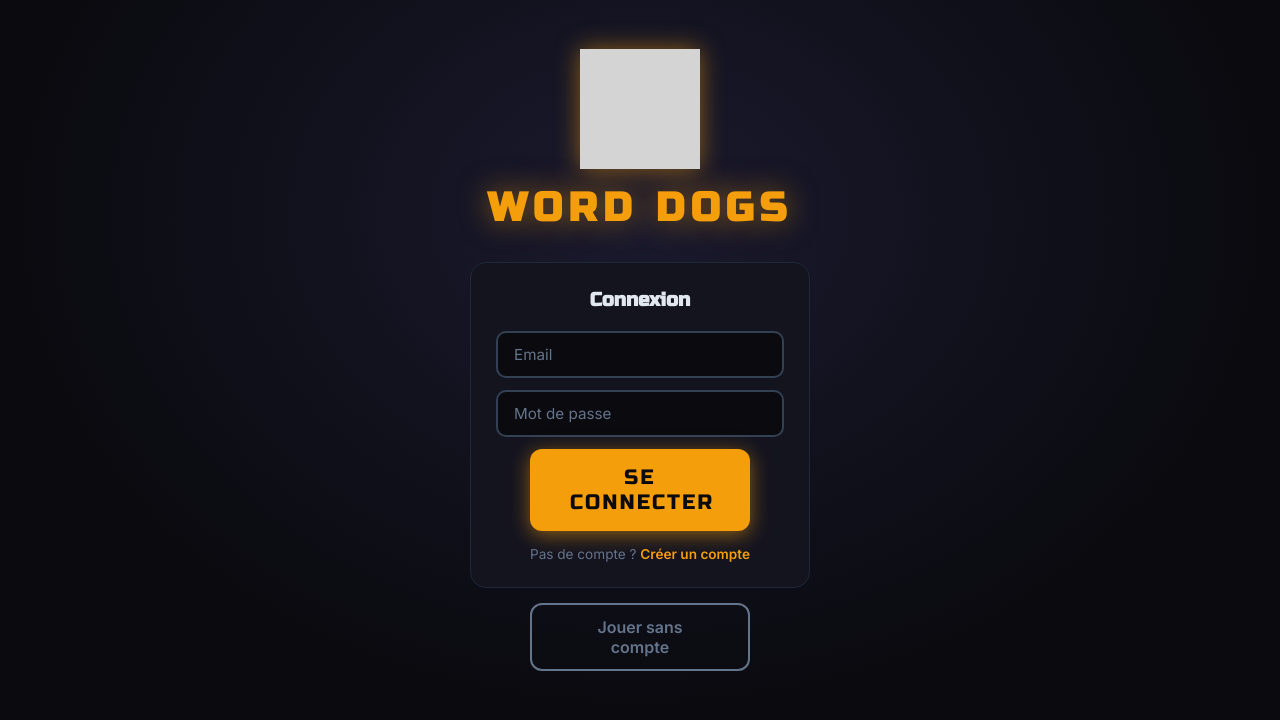
AuthScreen › switches to signup form
Click the link "Créer un compte": click(695, 554) [640,546,750,562]
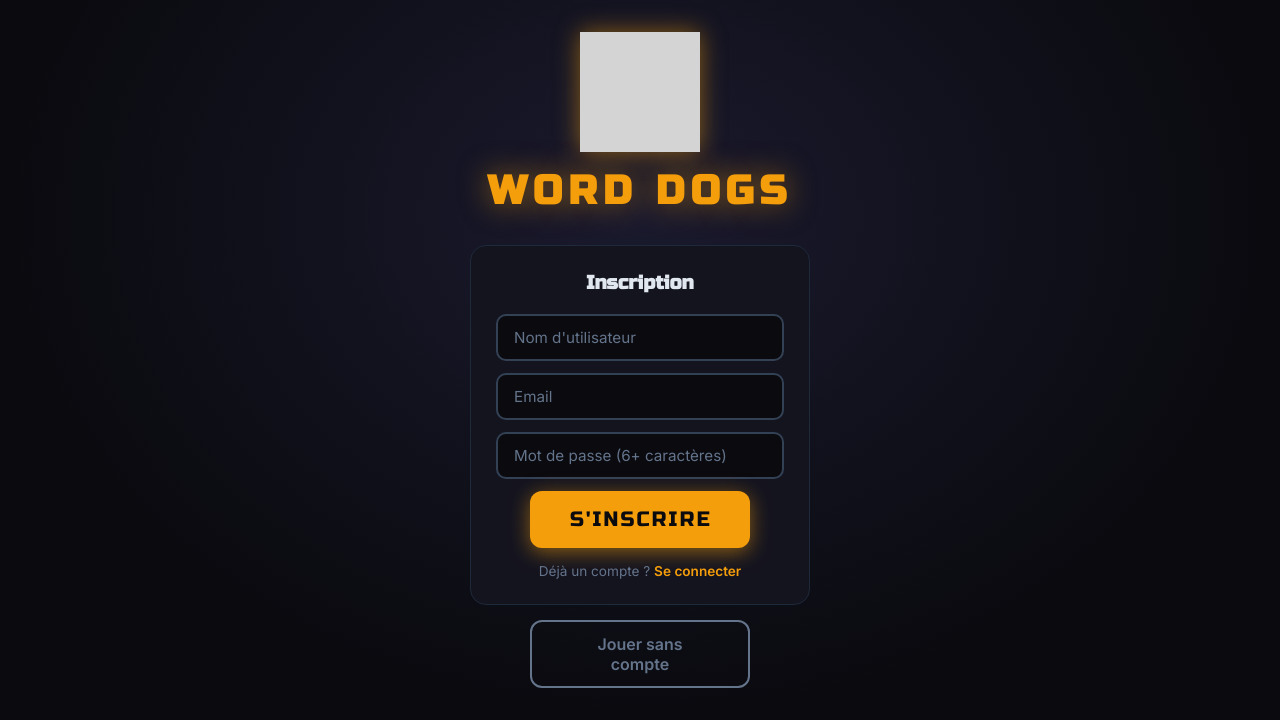
Expected: the heading "Inscription" is shown, [586,271,694,294]
Expected: the field with placeholder "Nom d'utilisateur" is shown, [496,314,784,361]
